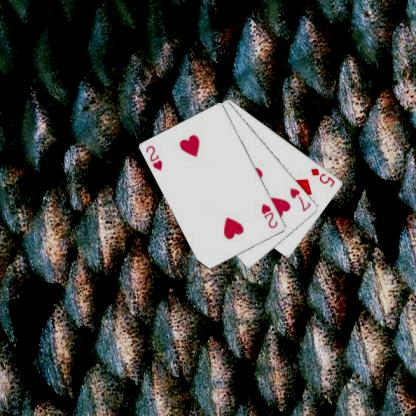2H: (143, 142, 164, 172), (258, 201, 279, 230)
5D: (308, 166, 336, 188)
7H: (287, 185, 313, 213)
